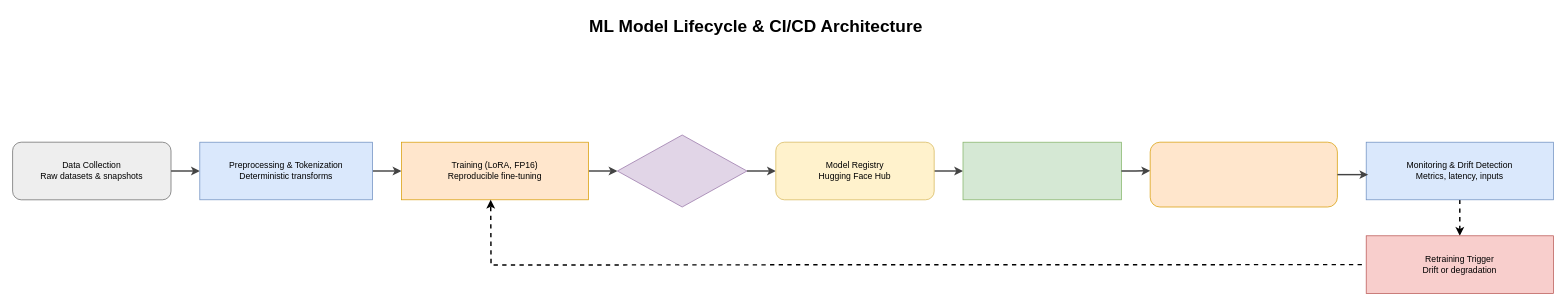
Image size: 1566x306. Some labels were removed from this diagram. The box of each missing label's shape, as (x1, y1, x2, y2) in pixels:
Deployment AWS Lambda / ECS: (1149, 141, 1337, 207)
Evaluation & Validation Accuracy gate: (617, 134, 747, 207)
Packaging & CI/CD Build, test, promote: (962, 141, 1121, 200)
